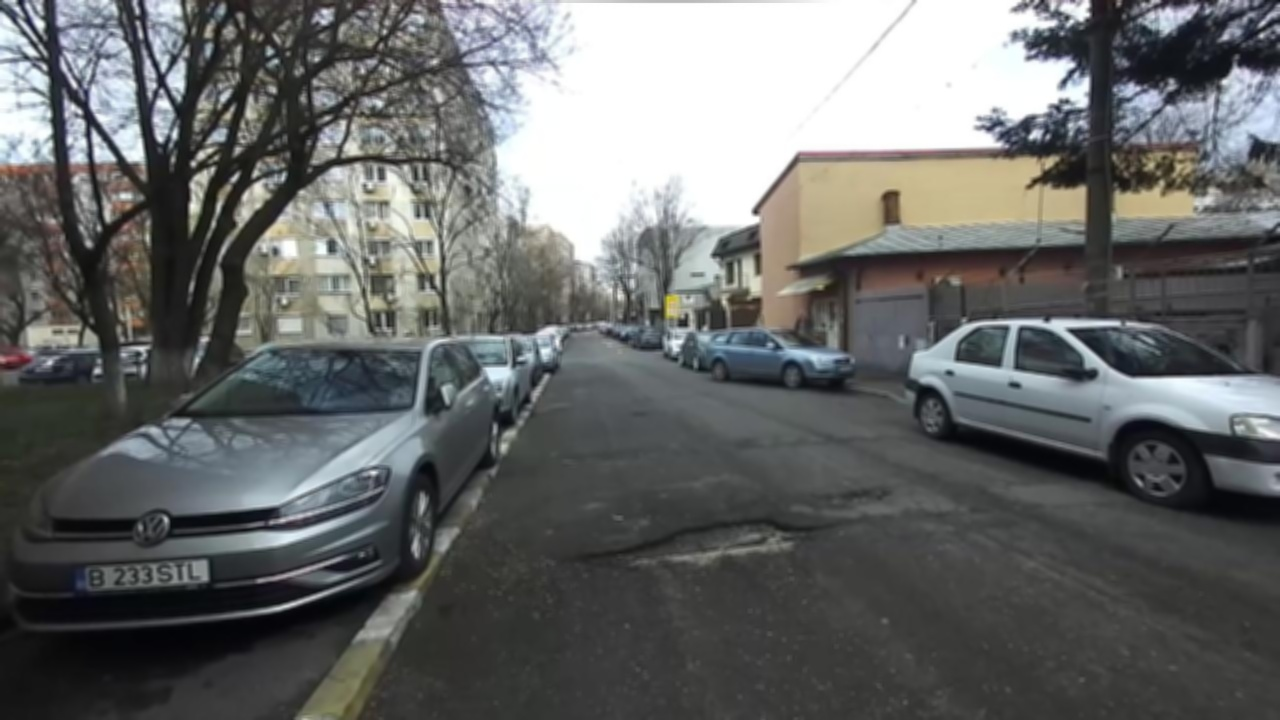pothole: (571, 511, 847, 572), (807, 480, 899, 504)
